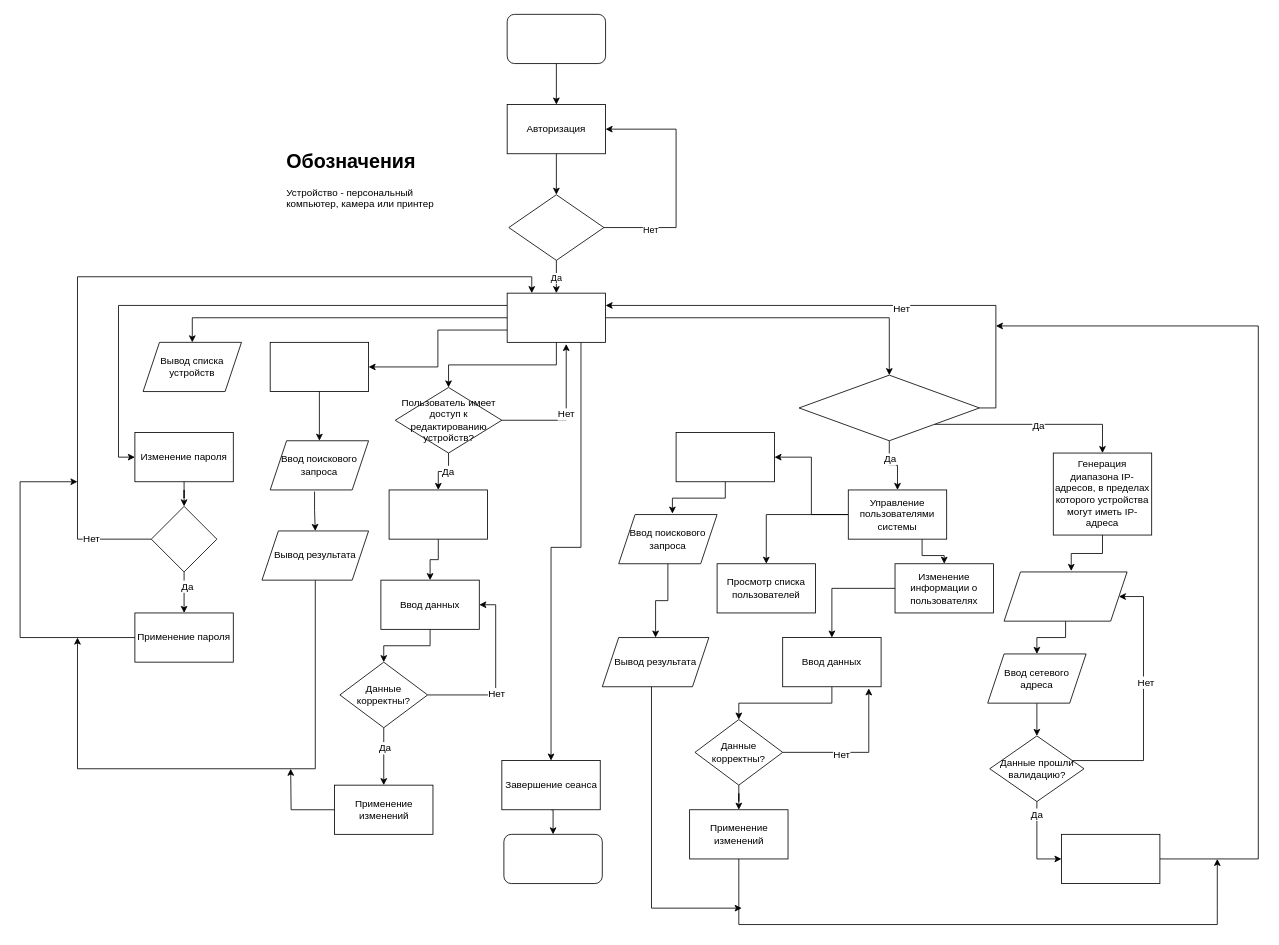
The diagram is 1279 pixels wide and 945 high, and some of its shapes have lost their labels. Here are the shapes that lost their labels. From the top down, the centre of each, then its label:
point (556, 39): Начало
point (556, 227): Авторизация успешна?
point (556, 317): Отображение главного окна
point (319, 367): Поиск среди устройств
point (888, 407): Пользователь имеет доступ к информации о других пользователях?
point (724, 457): Поиск среди пользователей
point (437, 514): Редактирование информации об устройствах
point (183, 539): Пароль совпадает со старым?
point (1065, 596): Ввод маски подсети
point (552, 859): Конец
point (1110, 859): Генерация диапазона допустимх IP-адресов
